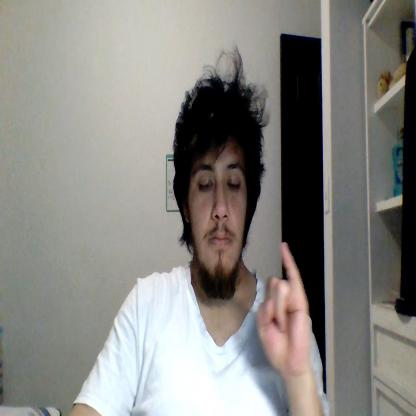I: (257, 242, 313, 372)
